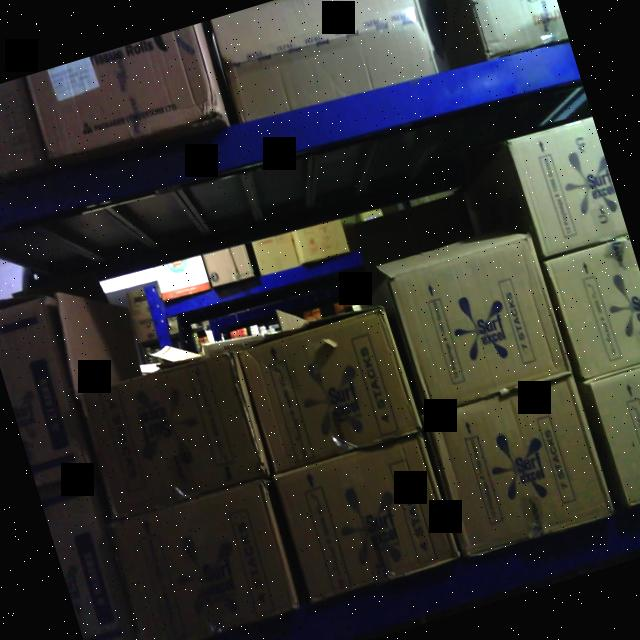box: (378, 220, 574, 422), (420, 370, 620, 560), (70, 340, 274, 524), (228, 298, 428, 481), (268, 427, 466, 608), (105, 473, 304, 640), (23, 22, 230, 172), (204, 0, 440, 126), (504, 110, 630, 264), (540, 230, 640, 385), (584, 353, 640, 511), (452, 0, 567, 58), (0, 75, 53, 195)
